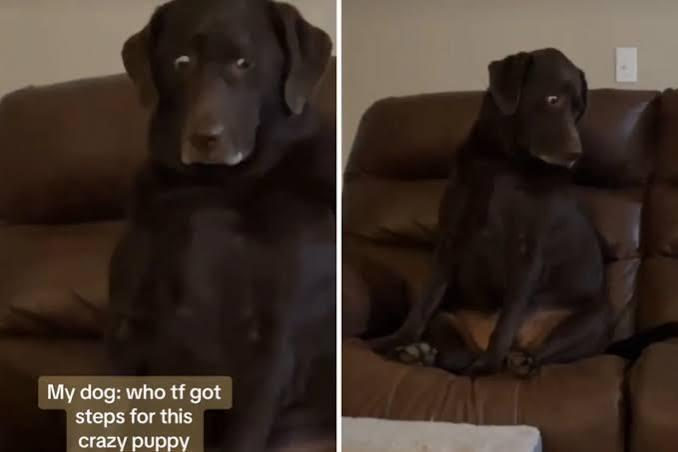adult_dog: (94, 0, 337, 452), (366, 49, 621, 381)
